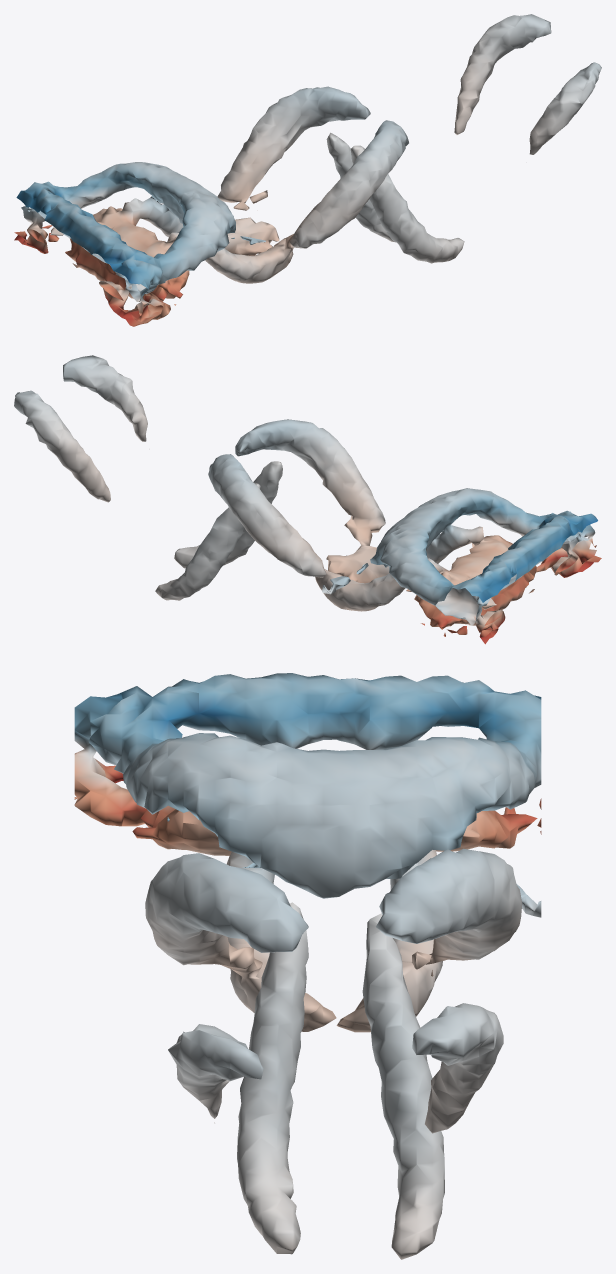
The picture shows the model from 3 angles, top to bottom: view 1: azimuth 30°, elevation 25°; view 2: azimuth 150°, elevation 25°; view 3: azimuth 270°, elevation 25°; orthographic projection. The views are drawn at different scales.
Bounding box in the file's own units: 6.15 × 2.18 × 2.5.
